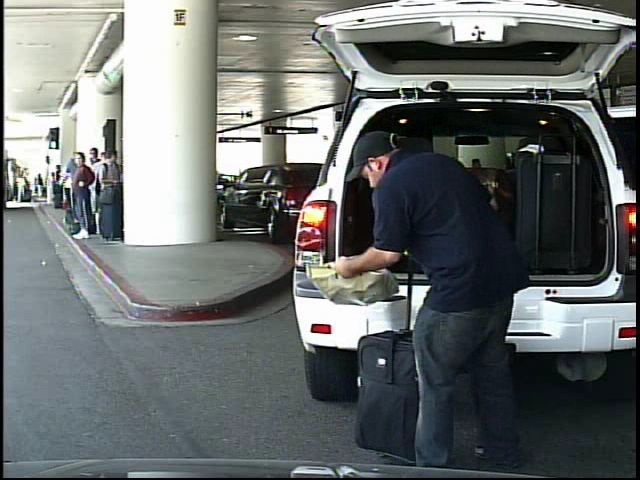person: (330, 112, 523, 479), (17, 174, 28, 205), (35, 172, 46, 199)
